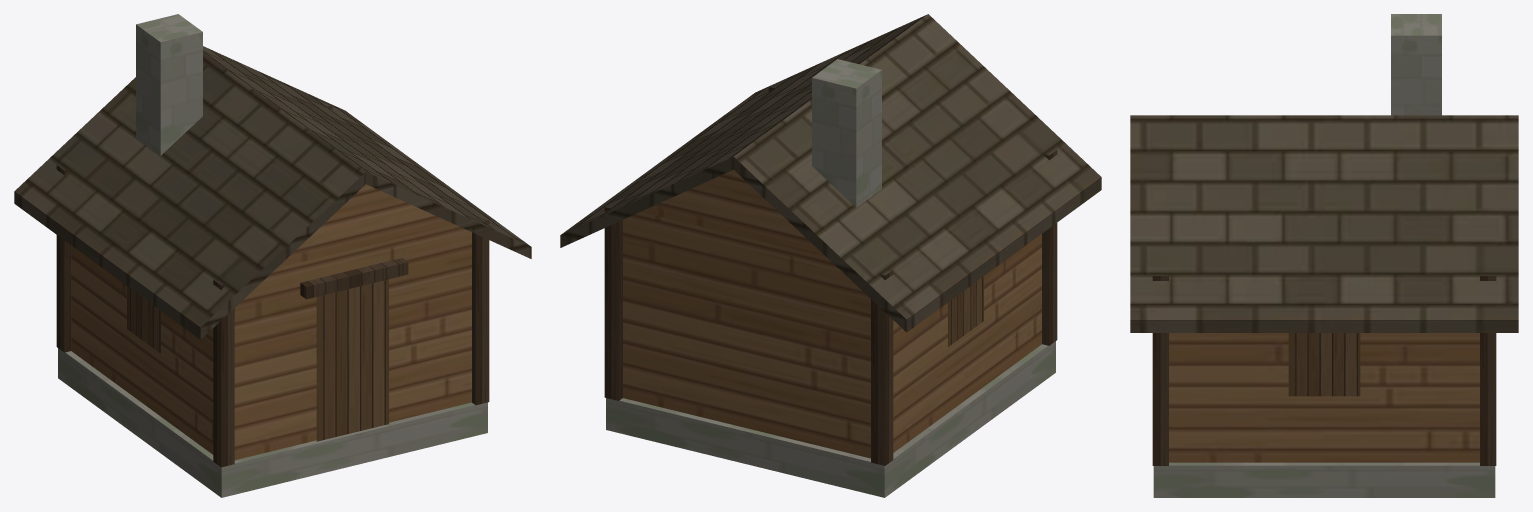
Rendered from ae_forest_wood_small_hut_lod1.glb.
3 views of the same model, side by side, from view 1: azimuth 30°, elevation 25°; view 2: azimuth 150°, elevation 25°; view 3: azimuth 270°, elevation 25° (orthographic). The views are drawn at different scales.
Visible parts, largest first — view 1: ae_forest_wood_small_hut_lod1; view 2: ae_forest_wood_small_hut_lod1; view 3: ae_forest_wood_small_hut_lod1.
Part boxes in pixels (box(x1,y1,x2,y2)): ae_forest_wood_small_hut_lod1: box(14, 14, 531, 497); ae_forest_wood_small_hut_lod1: box(560, 14, 1101, 497); ae_forest_wood_small_hut_lod1: box(1130, 14, 1518, 497).
Size of the model in its own units: 3.9 by 4.05 by 3.8.
Materials: 1 (1 with a texture image).
